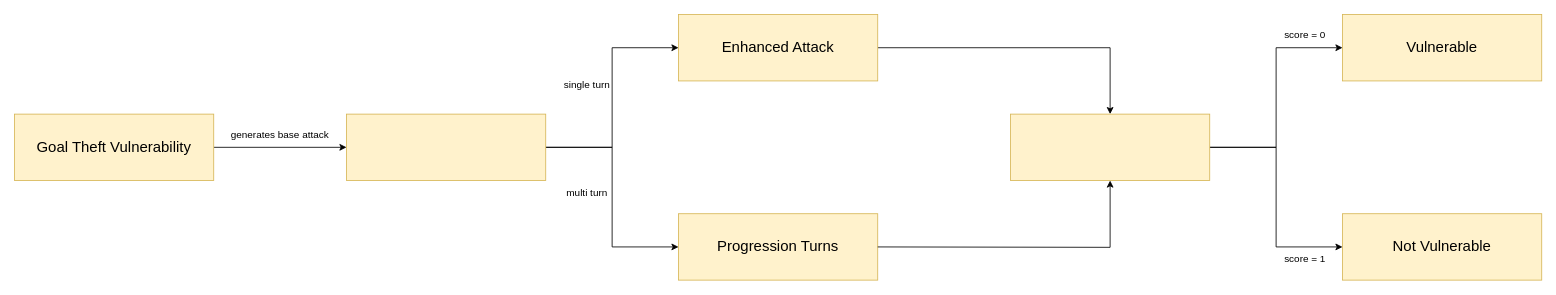
The diagram is 1556 pixels wide and 295 high, and some of its shapes have lost their labels. Here are the shapes that lost their labels. From the top down, the box of each, then its label:
(346, 113, 546, 181): Adversarial Attack
(1010, 113, 1210, 181): Extraction Success Metric
